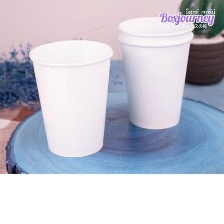paper_cup: (24, 35, 118, 160), (114, 12, 197, 132)
